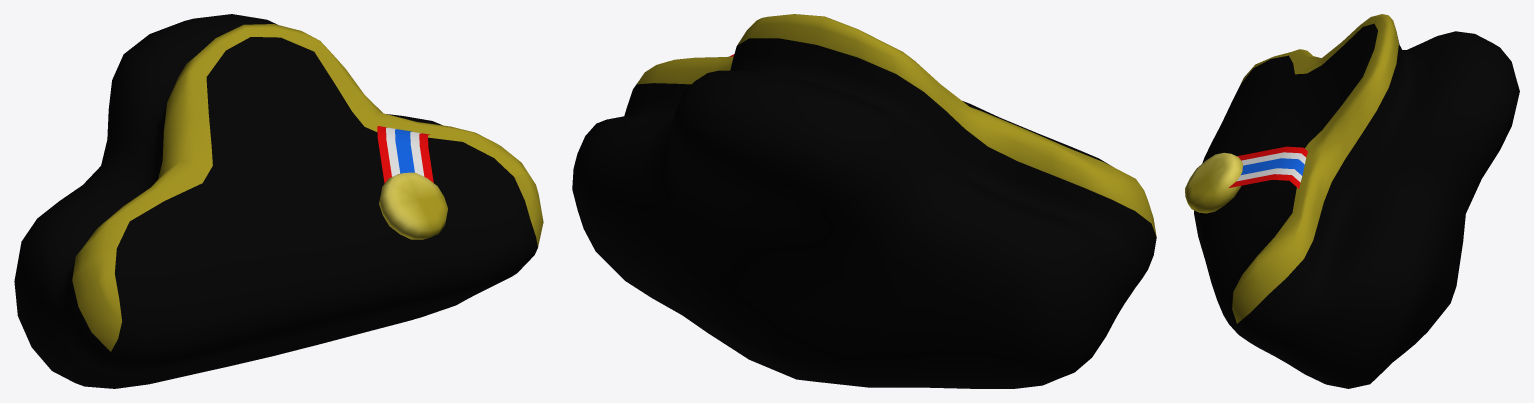
Rendered from NapoleonHat.fbx.
The picture shows the model from 3 angles, left to right: view 1: azimuth 30°, elevation 25°; view 2: azimuth 150°, elevation 25°; view 3: azimuth 270°, elevation 25°; orthographic projection. The views are drawn at different scales.
Parts seen in each view (by area): view 1: pCube30; view 2: pCube30; view 3: pCube30.
Part boxes in pixels (box(x1,y1,x2,y2)): pCube30: box(14, 14, 543, 388); pCube30: box(572, 14, 1156, 388); pCube30: box(1185, 14, 1519, 388).
Size of the model in its own units: 218 by 145 by 144.
